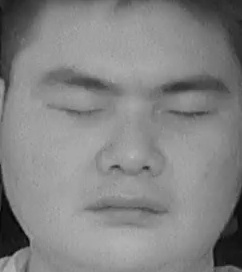blink: (48, 93, 104, 125), (162, 95, 212, 130)
mouth: (82, 186, 171, 232)
